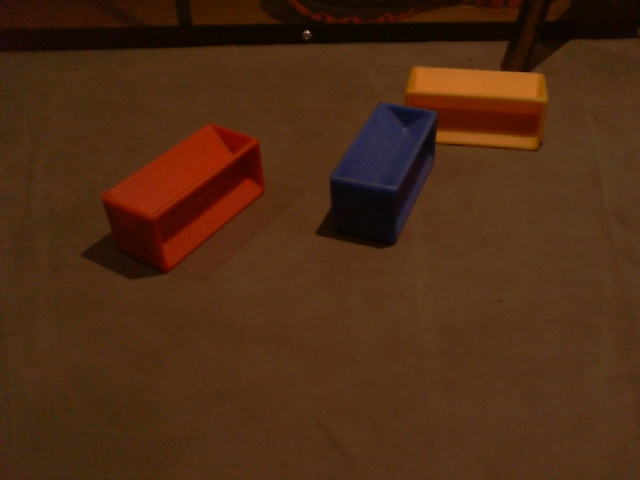BlueSample: (327, 101, 438, 245)
RedSample: (99, 122, 269, 276)
YellowSample: (402, 61, 549, 153)
